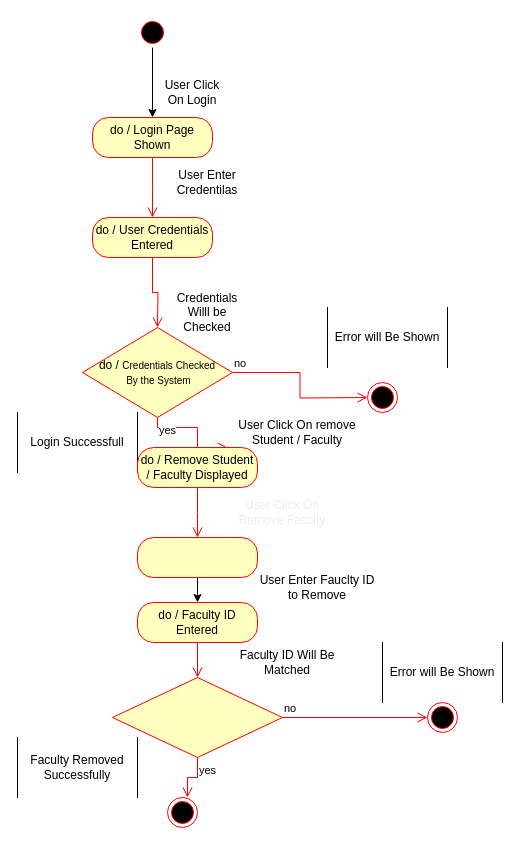
Image size: 520x845. Some labels were removed from this diagram. Here are the shapes that lost their labels. From the top down, the centre of each, then its label:
At point 197,557: "do / Remove Faculty Displayed".
At point 197,717: "do / Faculty ID Matched By The System".
